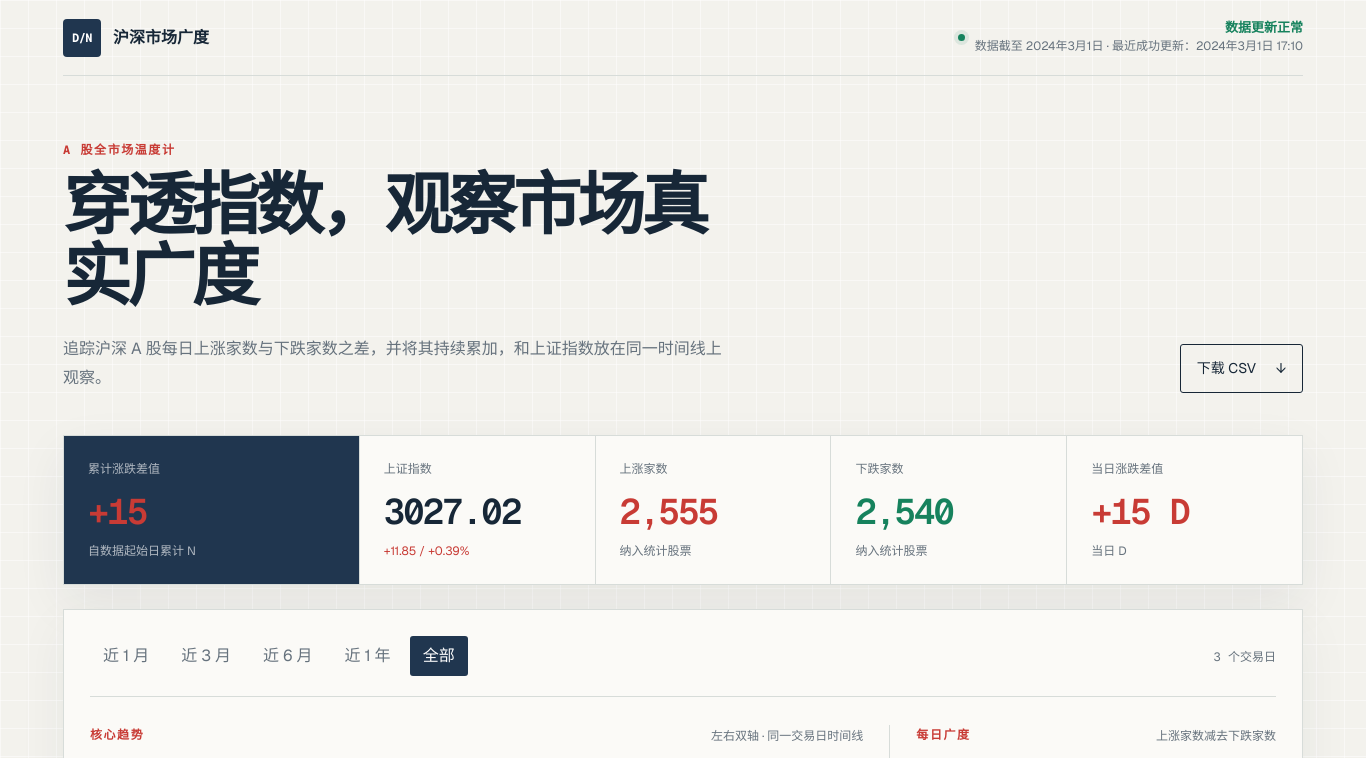
it: MarketDashboard › shows the latest cumulative breadth and switches range
Expected: the text "累计涨跌差值" is shown, [88, 461, 160, 477]
Expected: the text "+15" is shown, [88, 488, 147, 534]
Click the button "近 1 月".
click(126, 656)  # box [90, 636, 162, 676]
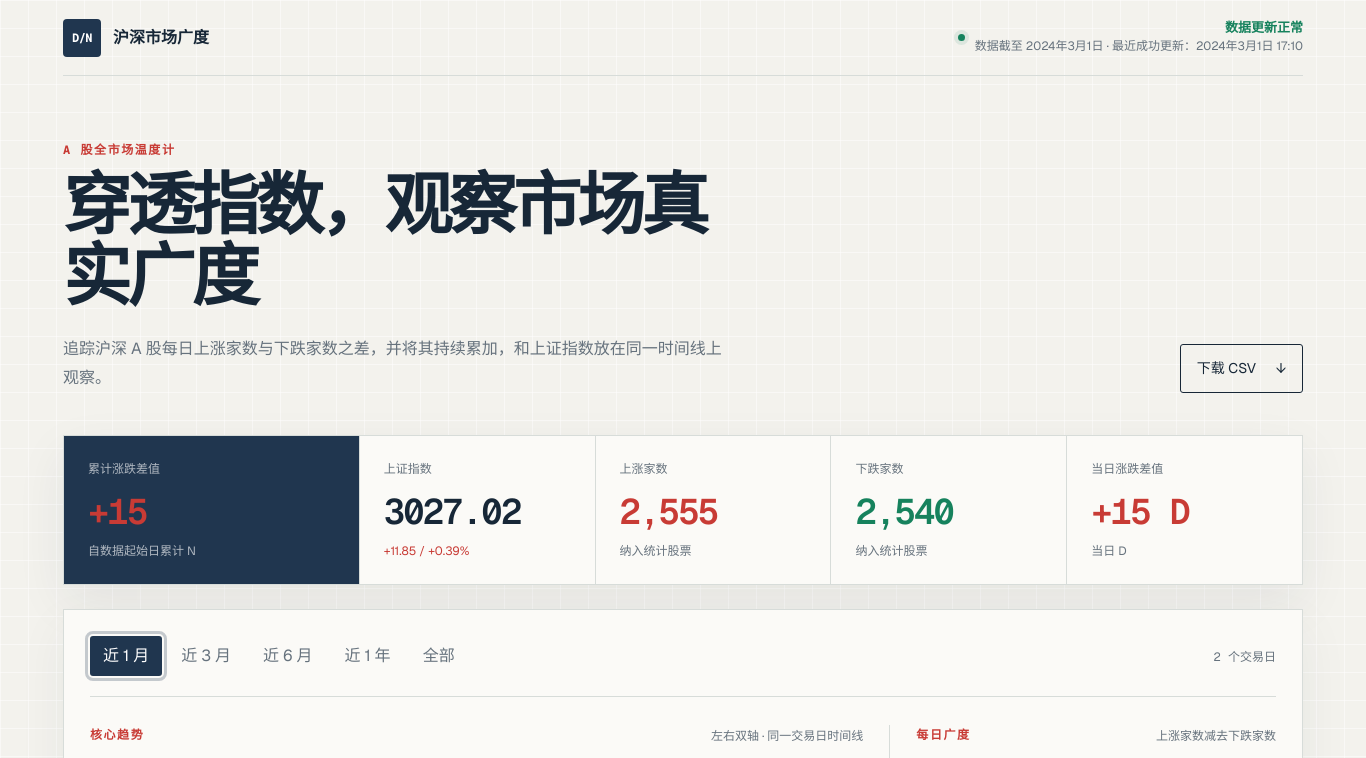
Result: the text "2 个交易日" is shown at [1214, 647, 1276, 665]
